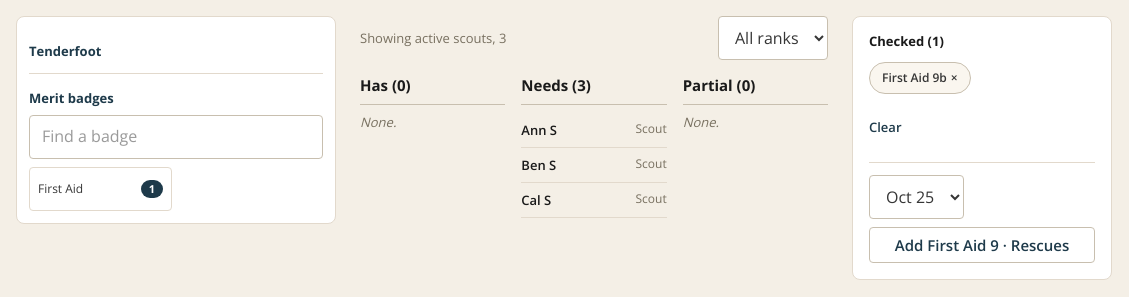
it: the Has/Needs tab (B7) › HasNeeds_Add_UsesSharedAddAction
This screenshot has width=1129, height=297.
Click the button with aria-label "Add First Aid 9 · Rescues to the Oct 25 plan" at (982, 245), box [869,227,1095,263]
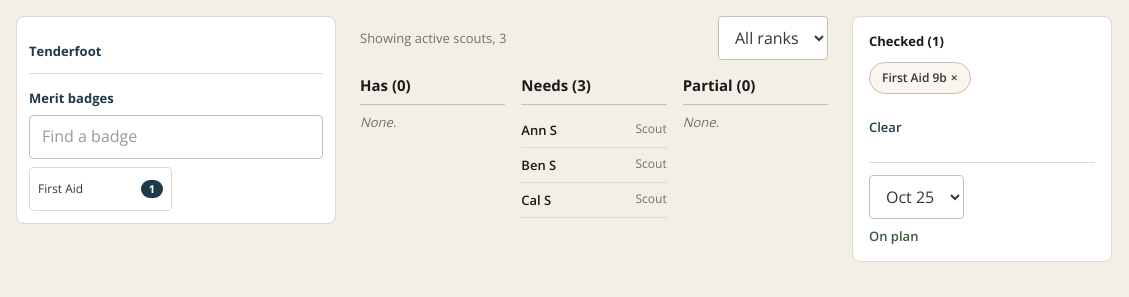
expect the text "On plan" is shown: met, box [869,227,918,245]
